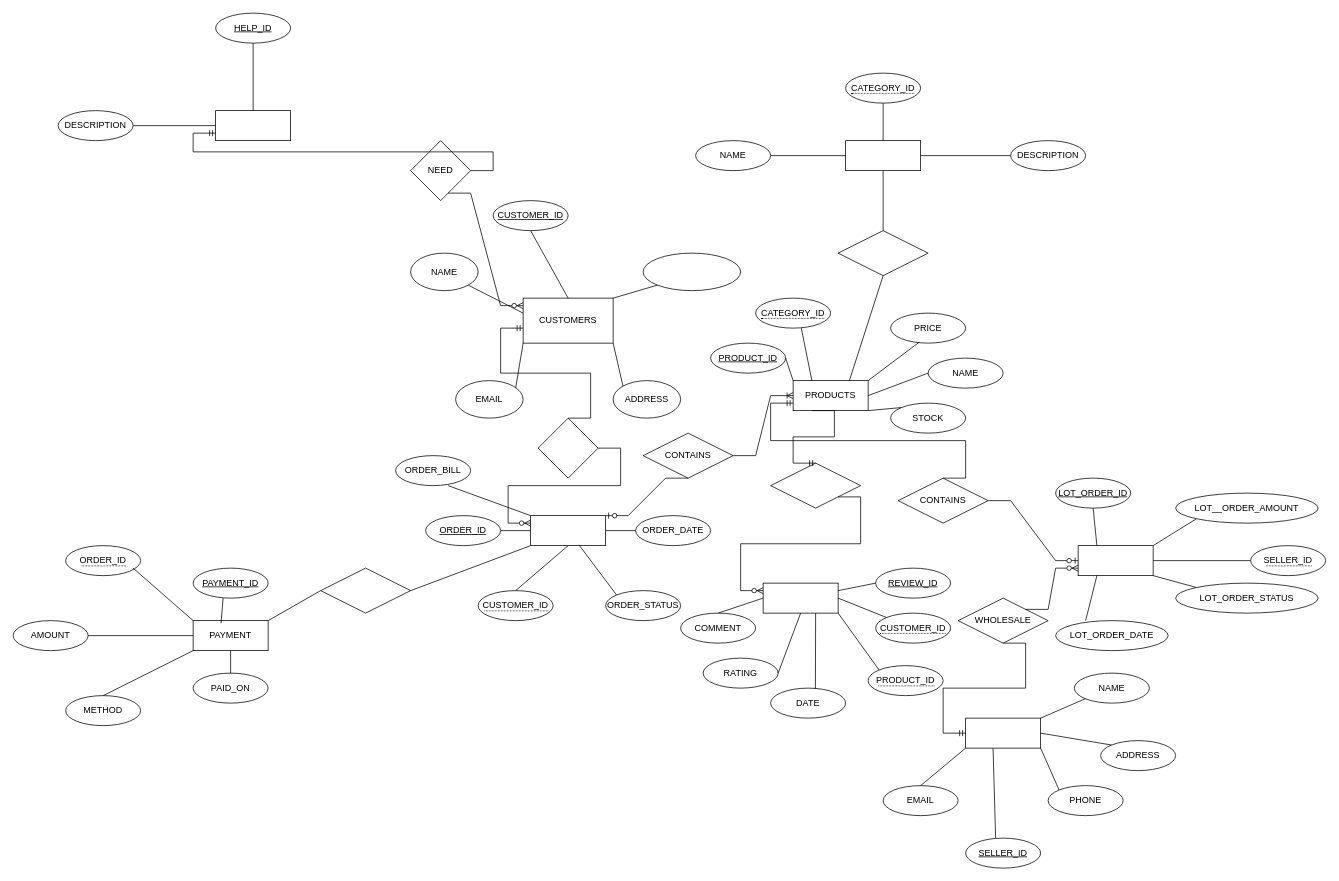
The diagram is 1339 pixels wide and 881 high, and some of its shapes have lost their labels. The shapes that lost their labels are listed below. From the top down, each one's centre as x and y in pixels, then its label:
pixel 253 125: HELP
pixel 883 155: CATEGORIES
pixel 691 271: REGISTERED_ON
pixel 882 253: INCLUDES
pixel 567 447: PLACES
pixel 815 485: RECEIVES
pixel 568 530: ORDER
pixel 1115 560: STOCK_ORDER
pixel 365 590: RECEIVE
pixel 800 597: REVIEW
pixel 1003 732: SELLER
